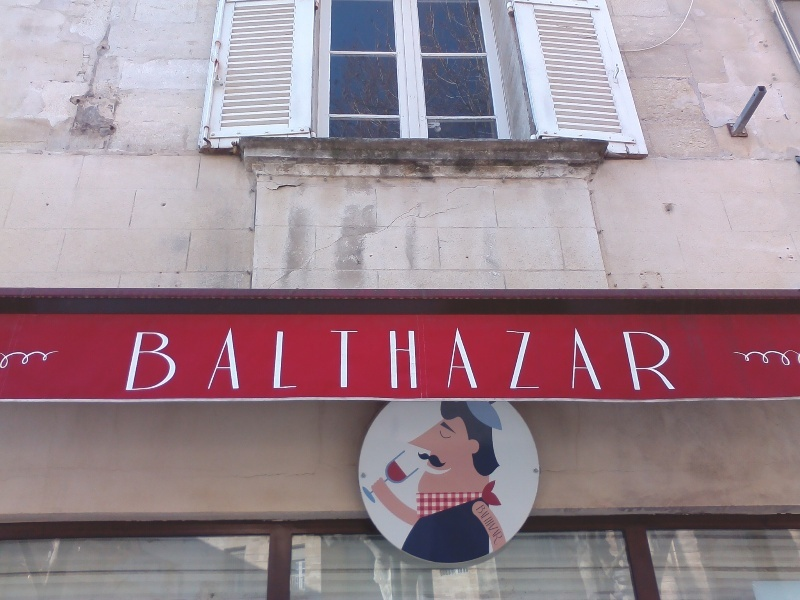text: (145, 324, 160, 395), (161, 324, 176, 395), (177, 324, 192, 395), (193, 324, 208, 395), (209, 324, 224, 395), (225, 324, 240, 395), (241, 324, 256, 395), (257, 324, 272, 395), (273, 324, 288, 395), (289, 324, 304, 395), (305, 324, 320, 395), (321, 324, 336, 395), (337, 324, 352, 395), (353, 324, 368, 395), (369, 324, 384, 395), (385, 324, 400, 395), (401, 324, 416, 395), (417, 324, 432, 395), (433, 324, 448, 395), (449, 324, 464, 395), (465, 324, 480, 395), (481, 324, 496, 395), (497, 324, 512, 395), (513, 324, 528, 395), (529, 324, 544, 395), (545, 324, 560, 395), (561, 324, 576, 395), (577, 324, 592, 395), (593, 324, 608, 395), (609, 324, 624, 395), (625, 324, 640, 395), (641, 324, 656, 395), (657, 324, 672, 395), (134, 324, 144, 395), (673, 324, 680, 395), (485, 504, 496, 549), (497, 504, 505, 549)
